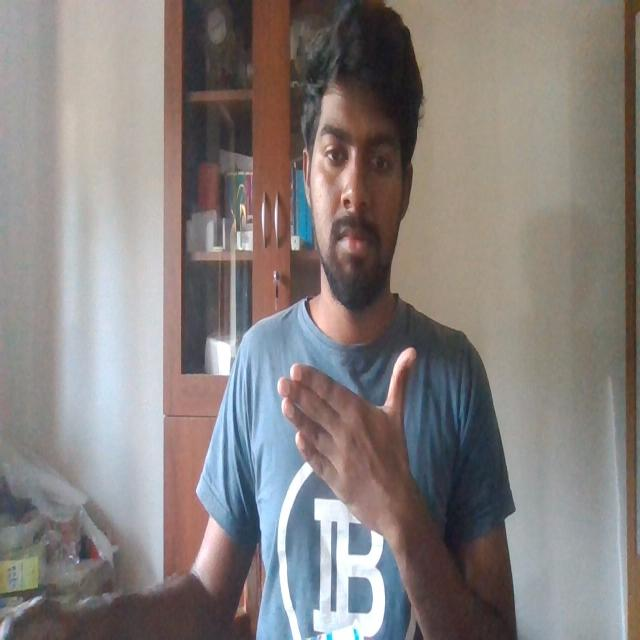Please: (274, 334, 426, 537)
